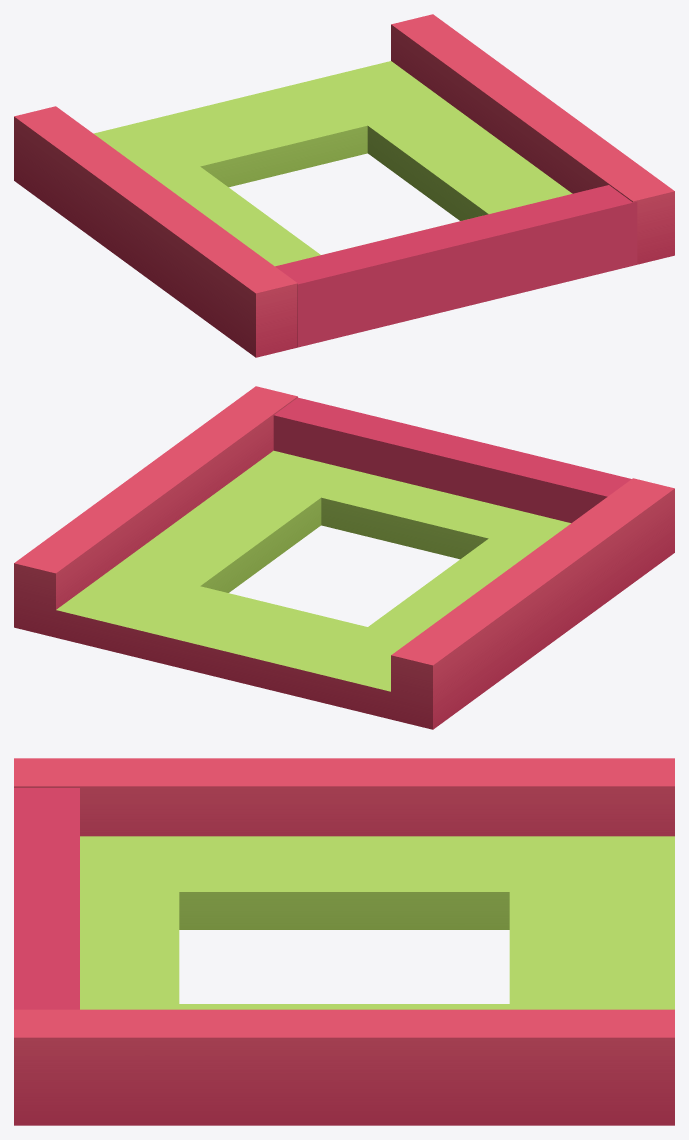
The picture shows the model from 3 angles, top to bottom: view 1: azimuth 30°, elevation 25°; view 2: azimuth 150°, elevation 25°; view 3: azimuth 270°, elevation 25°; orthographic projection. The views are drawn at different scales.
Visible parts, largest first — view 1: mergedBlocks(Clone); view 2: mergedBlocks(Clone); view 3: mergedBlocks(Clone).
Part boxes in pixels (bbox=[...]): mergedBlocks(Clone): bbox=[14, 14, 674, 357]; mergedBlocks(Clone): bbox=[14, 386, 674, 729]; mergedBlocks(Clone): bbox=[14, 758, 674, 1125].
Size of the model in its own units: 0.9999 by 0.1467 by 1.
2 materials, 1 textured.
